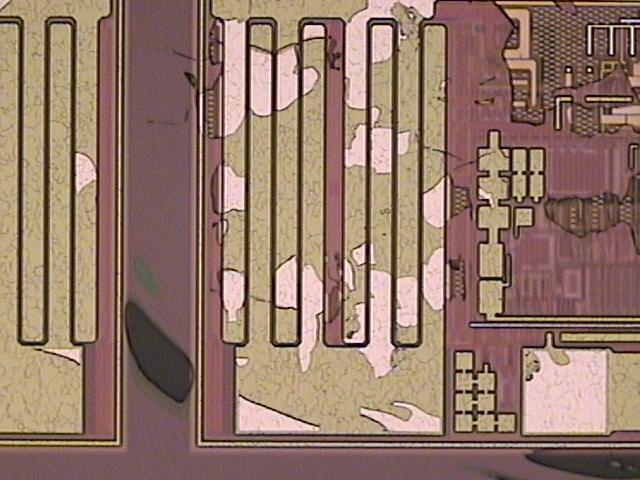COATING BAD: (1, 1, 640, 443)
